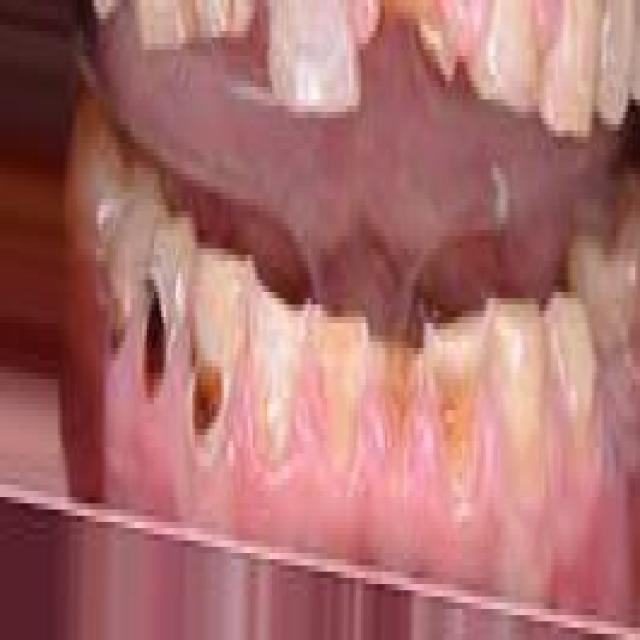caries: (424, 287, 490, 492), (185, 241, 247, 456), (309, 296, 367, 474), (360, 329, 423, 480), (143, 218, 189, 409), (98, 252, 140, 388), (418, 0, 466, 99)
